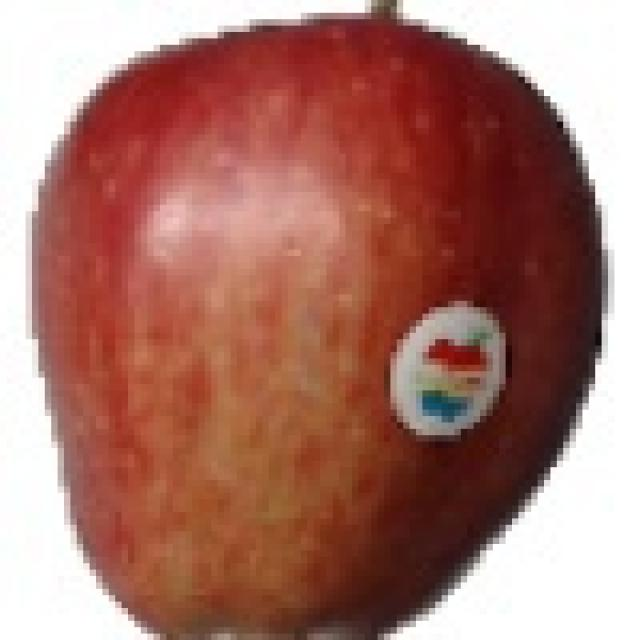apple: (30, 14, 612, 638)
